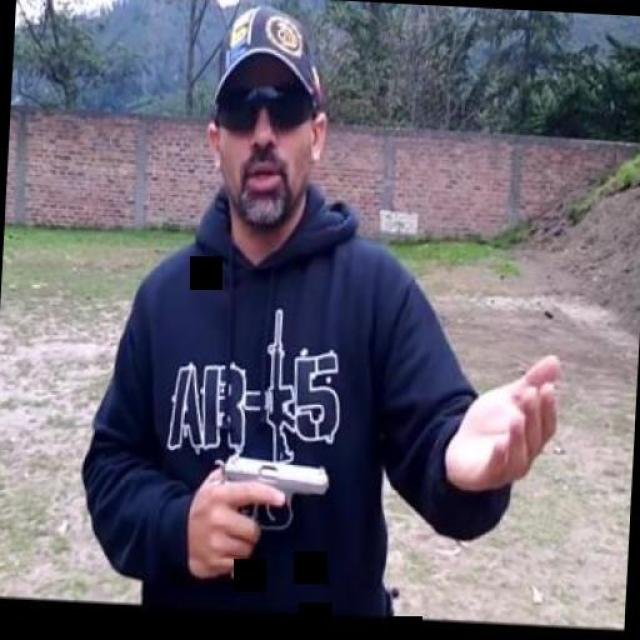gun: (208, 449, 330, 580)
